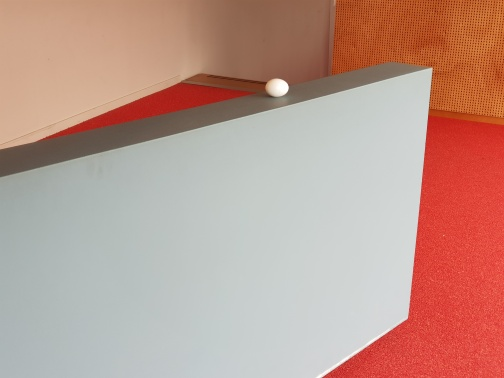egg: (263, 78, 290, 97)
